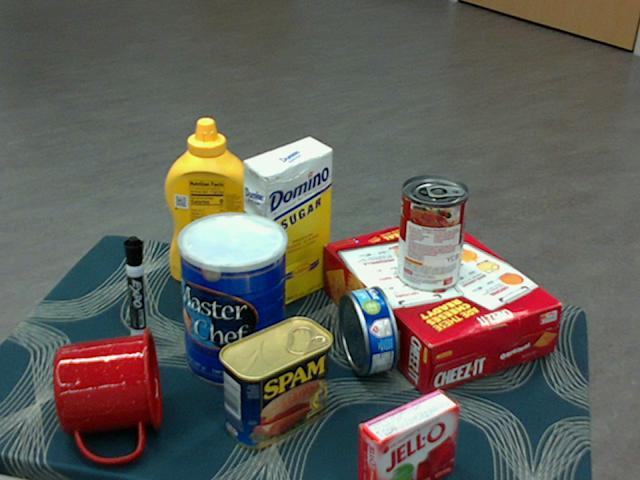cracker_box: (321, 216, 559, 392)
gelatin_box: (355, 390, 456, 479)
large_marker: (123, 236, 147, 344)
master_chef_can: (179, 213, 288, 389)
mug: (54, 328, 162, 463)
mustard_bottle: (164, 118, 254, 287)
potted_meat_can: (219, 317, 332, 449)
sugar_box: (243, 138, 333, 314)
tomato_soup_can: (396, 177, 468, 293)
tuna_fish_can: (339, 285, 399, 374)
